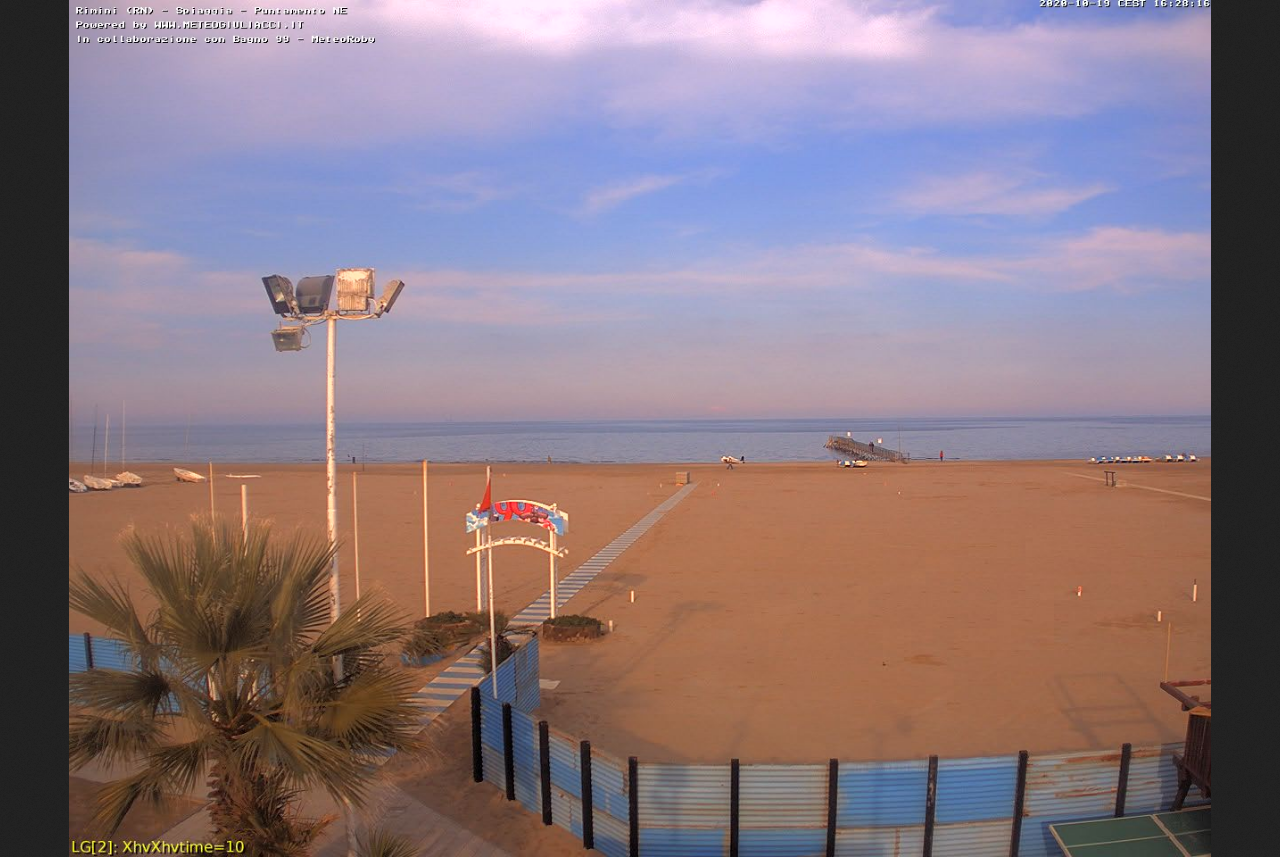no: (476, 469, 494, 513)
